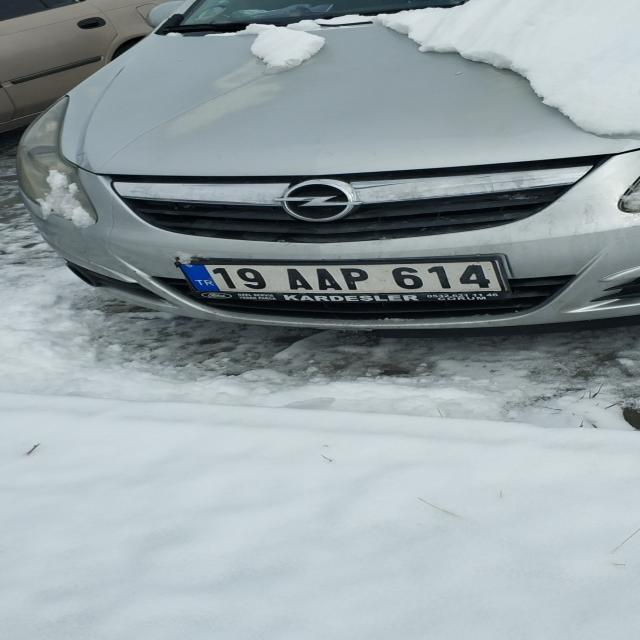plate: (181, 260, 505, 293)
